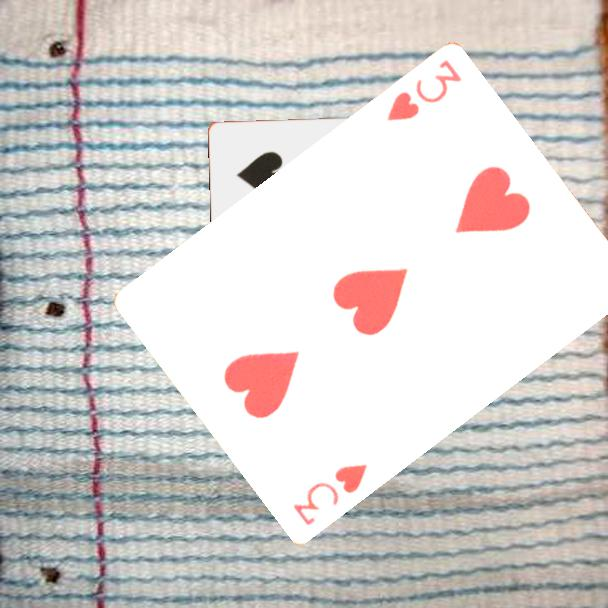h03: (383, 56, 465, 125), (289, 461, 370, 529)
